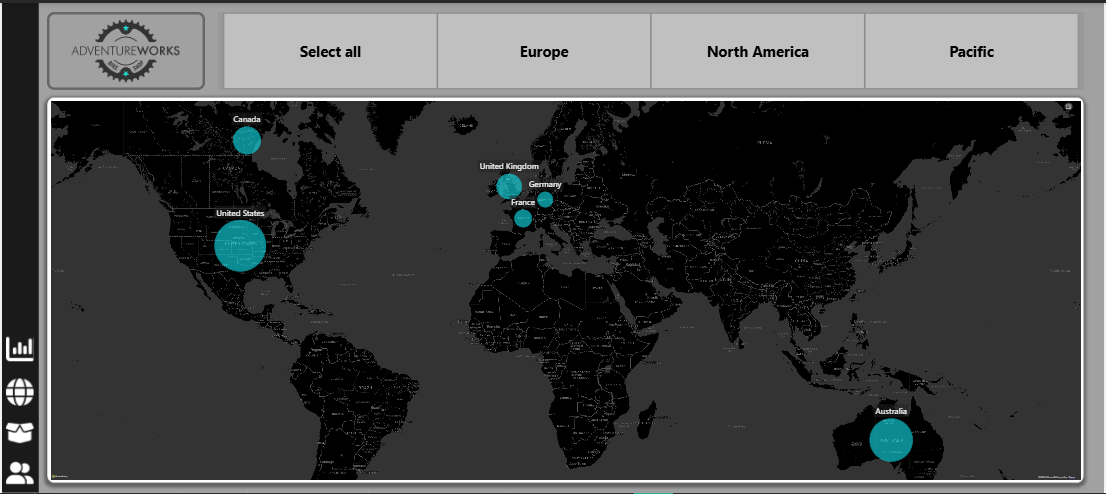

What the dashboard file says about the page in this screenshot:
{"tool":"powerbi","page":{"name":"Map","canvas":[4500,2000],"ordinal":1},"visuals":[{"type":"shape","box":[0,0,150,1998.4],"z":0},{"type":"actionButton","box":[12.2,1322.4,120.8,180.8],"z":0,"group":"g1"},{"type":"image","box":[183.7,36.7,644.9,318.4],"z":1000},{"type":"actionButton","box":[12.2,1503.2,120.8,172],"z":1000,"group":"g1"},{"type":"actionButton","box":[12.2,1675.2,120.8,163.2],"z":2000,"group":"g1"},{"type":"map","fields":{"Category":["Territory Lookup.Country"],"Size":["Measure Table.Total Orders"]},"box":[183.7,383.7,4232.7,1575.5],"z":2000},{"type":"slicer","fields":{"Values":["Territory Lookup.Continent"]},"box":[881.6,36.7,3534.7,318.4],"z":3000},{"type":"actionButton","box":[12.2,1838.3,120.8,163.2],"z":3000,"group":"g1"},{"type":"group","id":"g1","title":"Page Navigation","box":[12.2,1322.4,122.4,677.6],"z":4000}]}

Visuals, with their boxes in screenshot pixels (x1, y1, x2, y2), scaled from the page's 4500x2000 canvas onto the 1106x494 screenshot:
shape: 0, 0, 37, 493
actionButton: 3, 327, 33, 371
image: 45, 9, 204, 88
actionButton: 3, 371, 33, 414
actionButton: 3, 414, 33, 454
map - Territory Lookup.Country x Measure Table.Total Orders: 45, 95, 1085, 484
slicer - Territory Lookup.Continent: 217, 9, 1085, 88
actionButton: 3, 454, 33, 493
"Page Navigation" group: 3, 327, 33, 493
